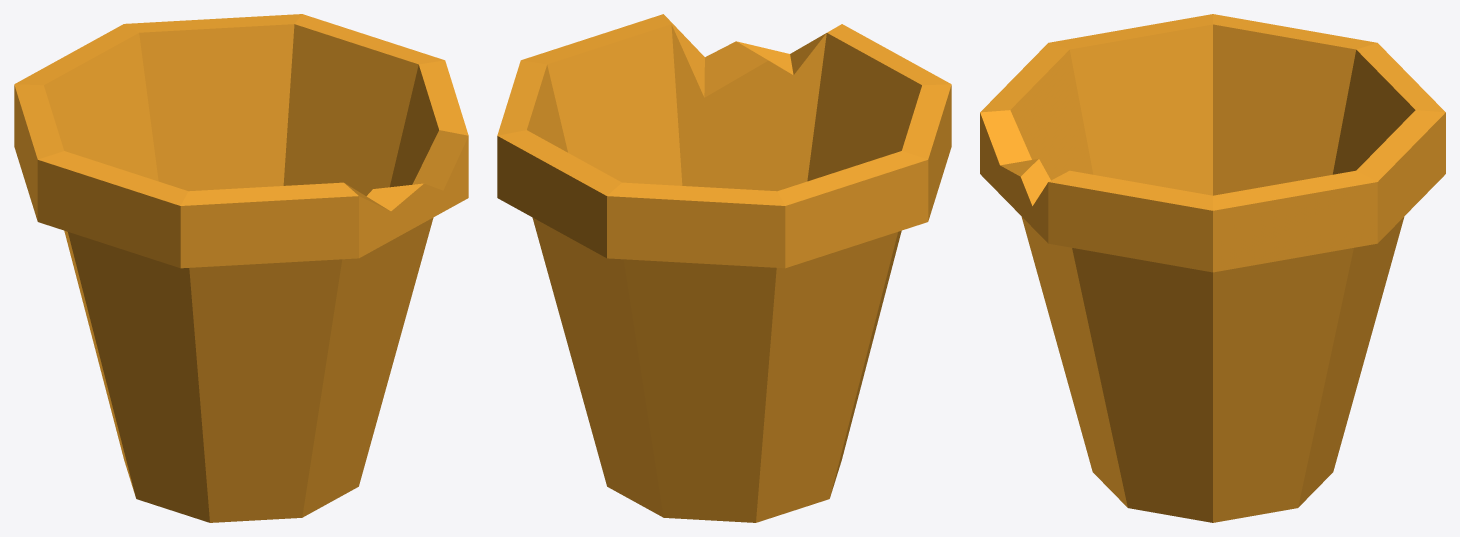
Rendered from SM_Pot_Clay_Broken_A.fbx.
The picture shows the model from 3 angles, left to right: view 1: azimuth 30°, elevation 25°; view 2: azimuth 150°, elevation 25°; view 3: azimuth 270°, elevation 25°; orthographic projection.
Visible parts, largest first — view 1: pot-clay-broken-a; view 2: pot-clay-broken-a; view 3: pot-clay-broken-a.
Part boxes in pixels (x1=…): pot-clay-broken-a: x1=14, y1=14, x2=468, y2=522; pot-clay-broken-a: x1=497, y1=14, x2=951, y2=522; pot-clay-broken-a: x1=980, y1=14, x2=1445, y2=522.
Bounding box in the file's own units: 0.21 × 0.1802 × 0.21.
